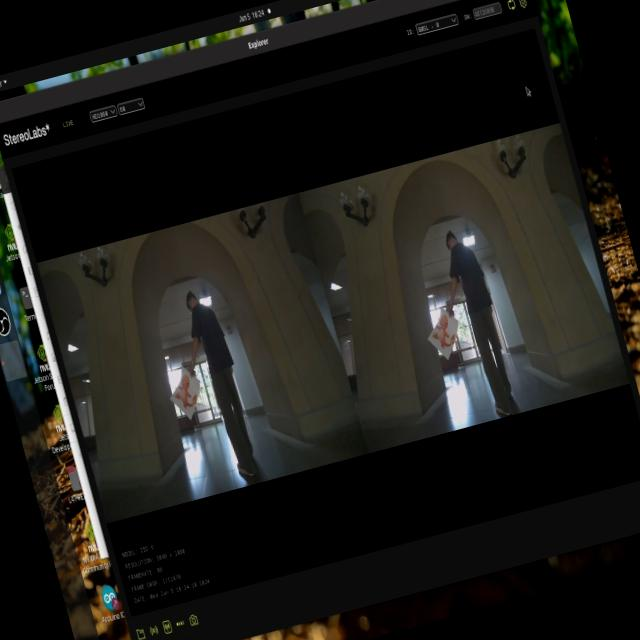red: (417, 304, 460, 358), (163, 366, 206, 417)
